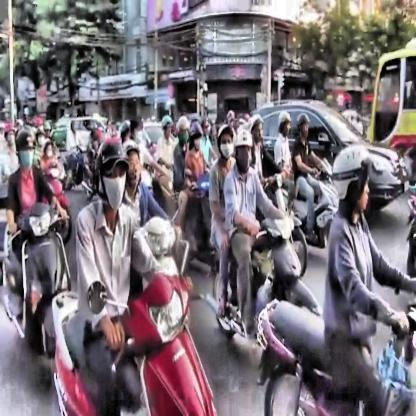wear: (332, 141, 372, 213), (96, 135, 130, 203), (234, 128, 254, 172), (15, 129, 36, 169), (189, 121, 204, 152), (295, 112, 311, 138), (278, 108, 292, 135), (160, 115, 174, 136)
